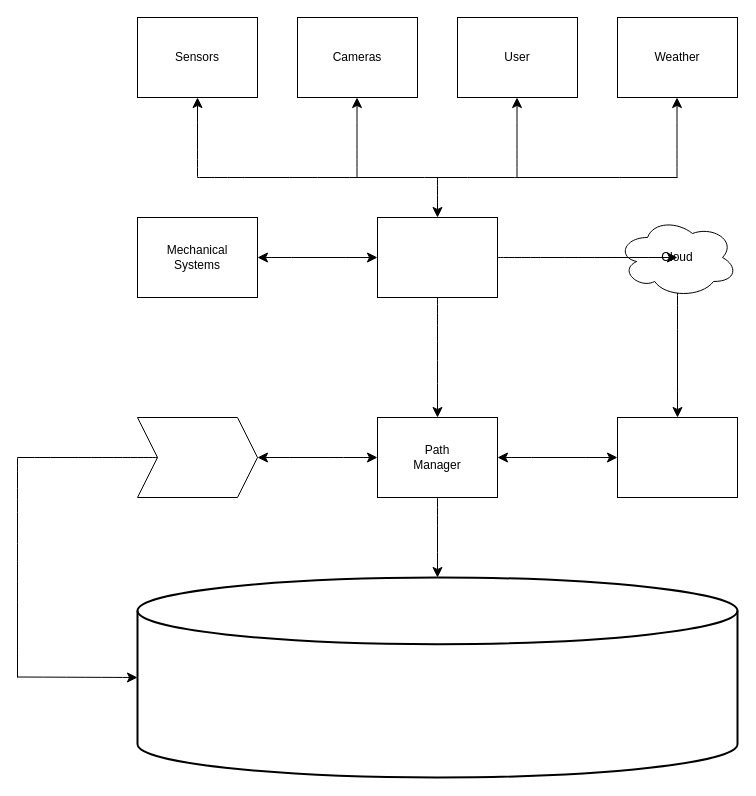
The diagram is 756 pixels wide and 796 high, and some of its shapes have lost their labels. The centre of each missing label's shape, as x and y in pixels:
"CENTRAL DATABASE (SQL)" belongs at (437,677).
"GPS" belongs at (677,457).
"Satalite" belongs at (197,457).
"Vehicle Object" belongs at (437,257).
